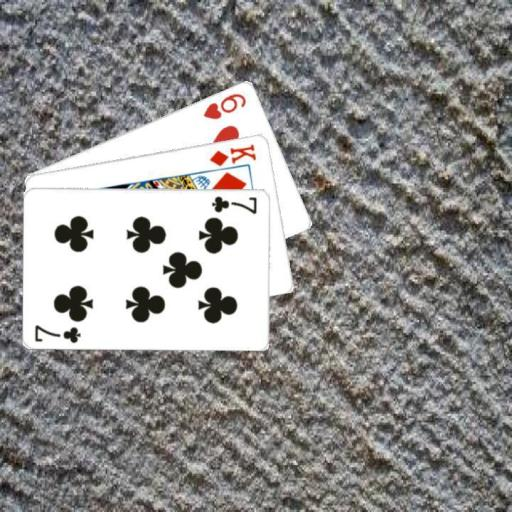card-corner: (200, 89, 248, 121), (206, 141, 258, 168), (209, 192, 259, 216), (32, 322, 82, 344)
